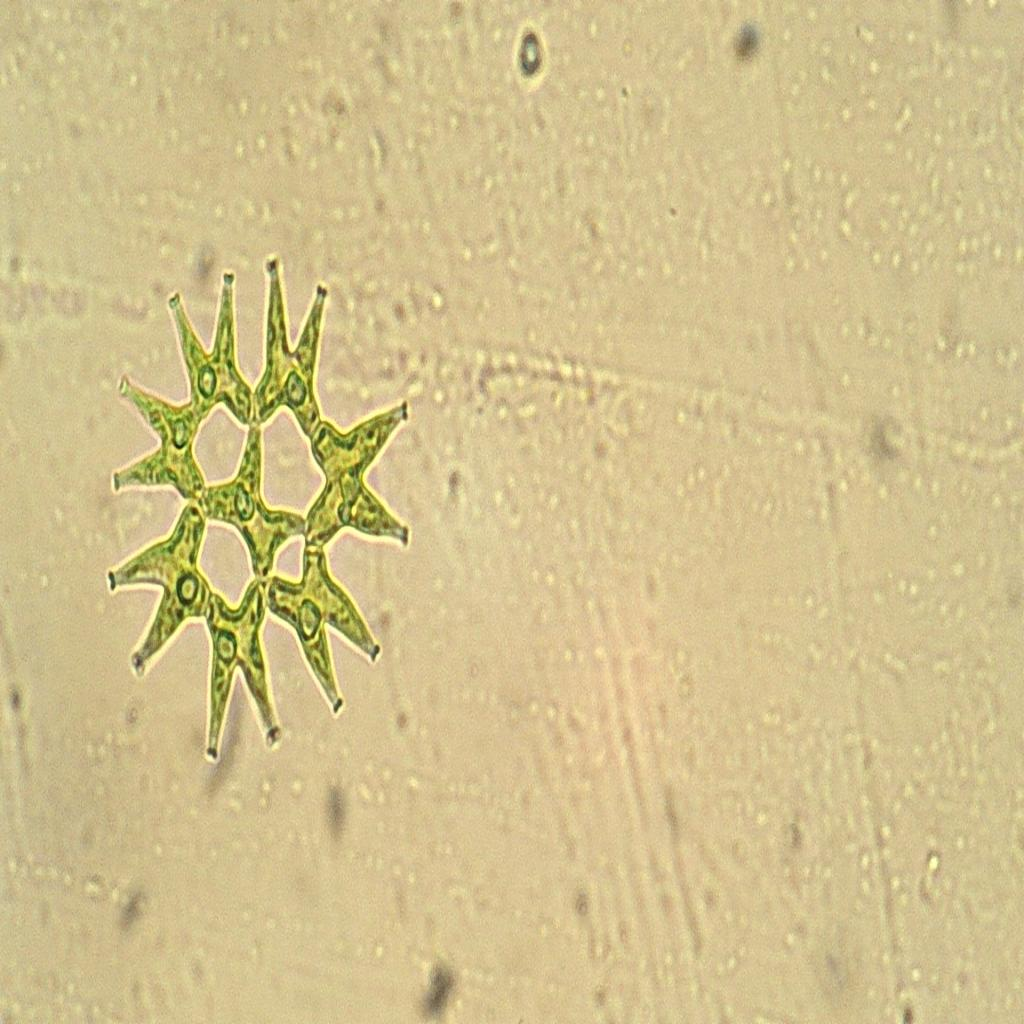Pediastrum_75T: (93, 218, 440, 777)
